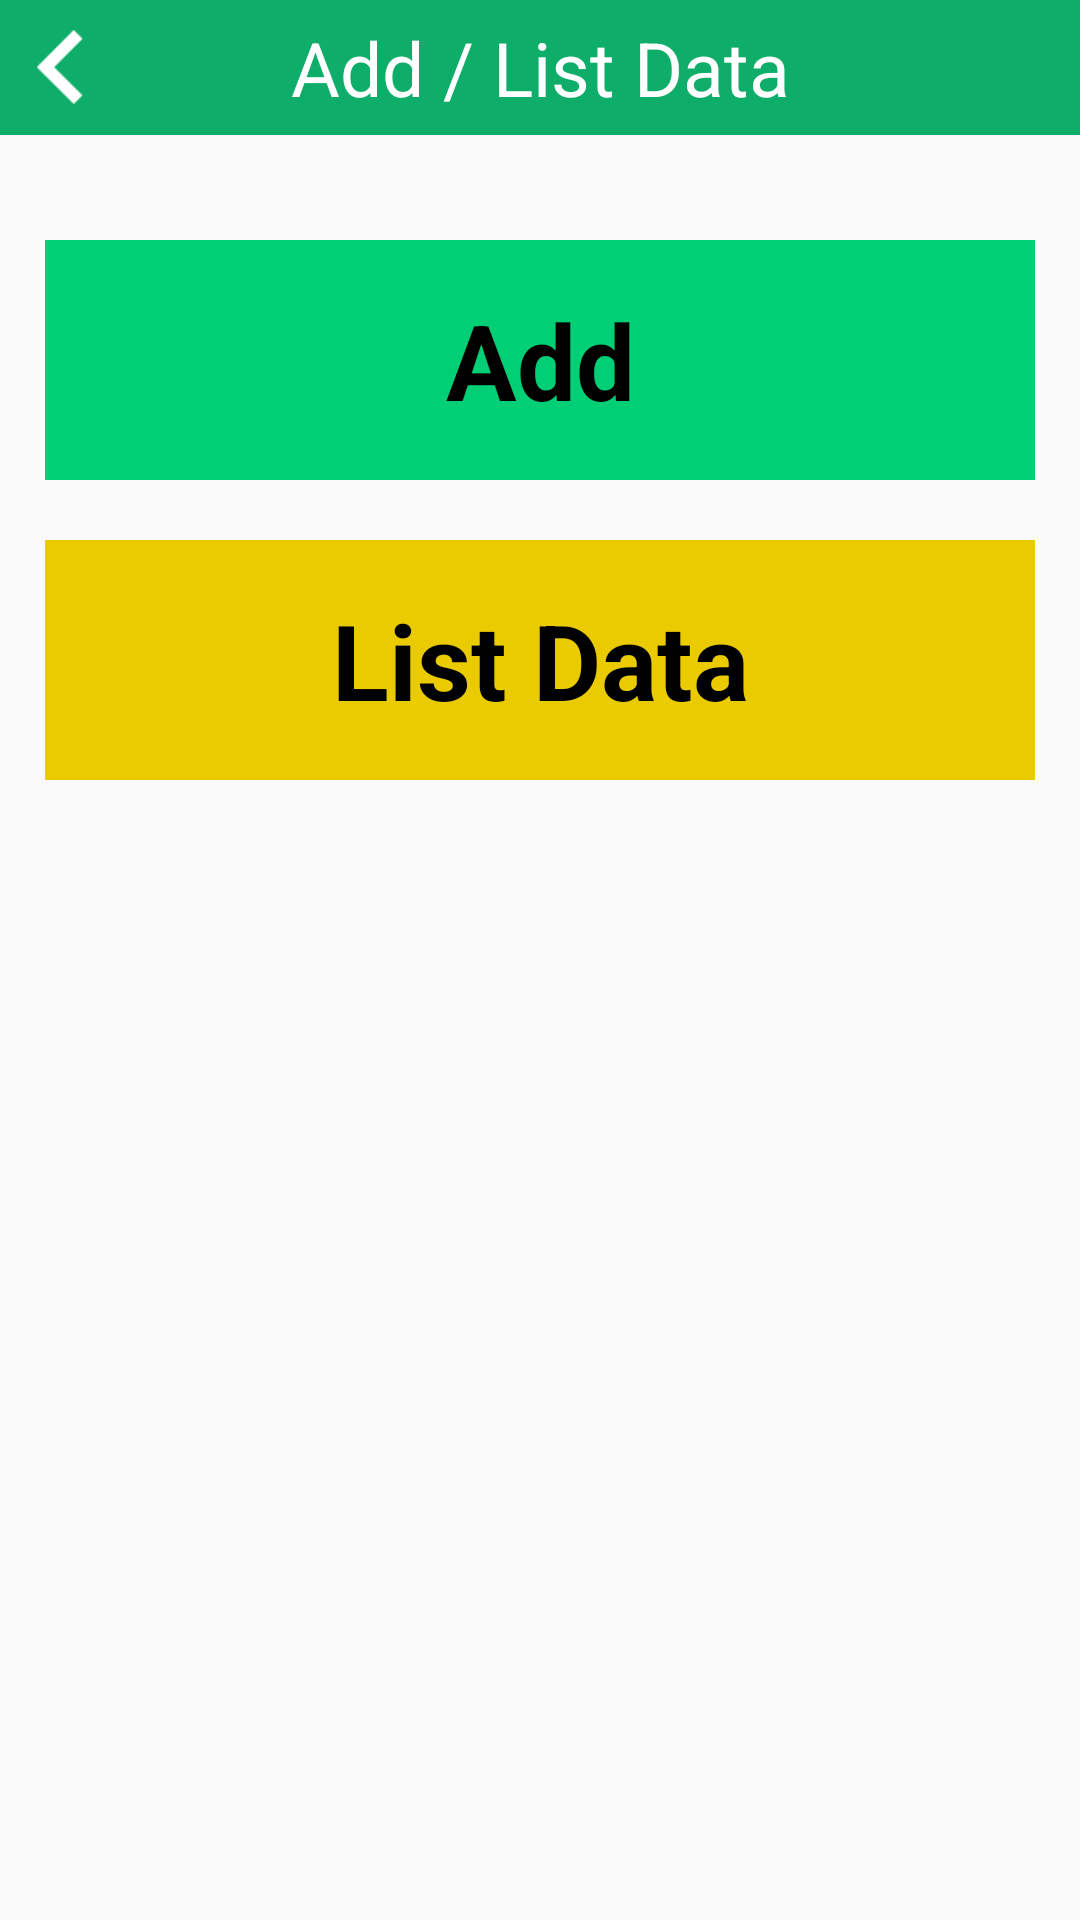

Named icons in this screenshot (1080px x 1920px) and their centers, (x=x, y=y):
icbtnback: (x=60, y=67)
